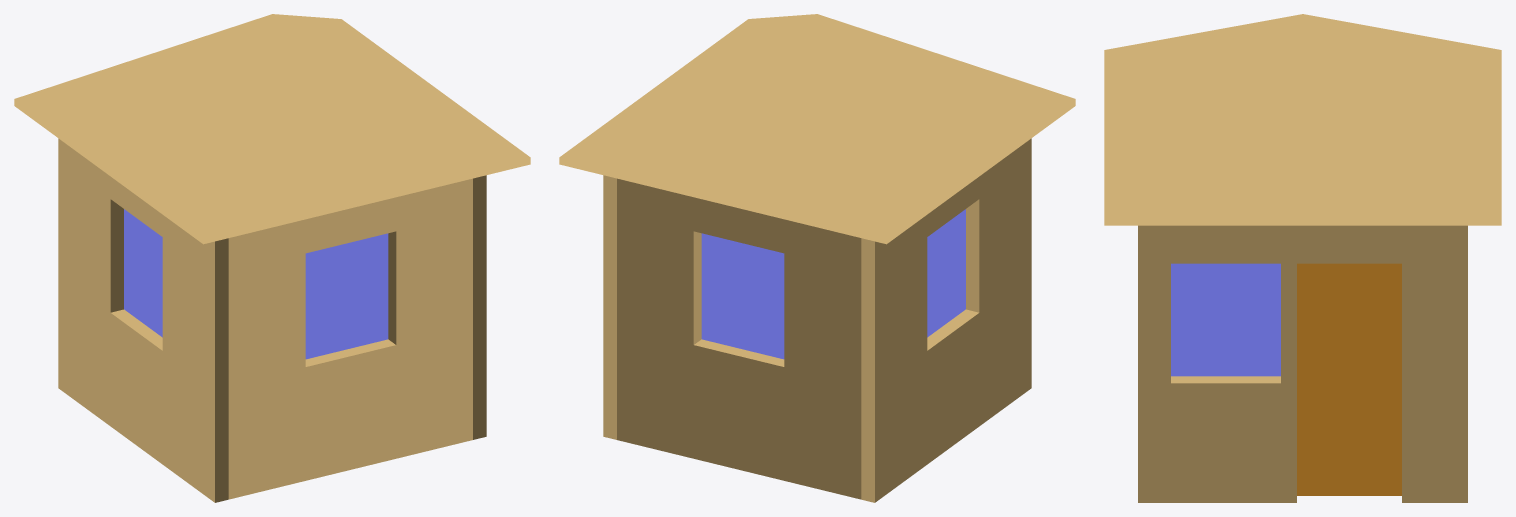
File: sample-LOD04.glb
3 views of the same model, side by side, from view 1: azimuth 30°, elevation 25°; view 2: azimuth 150°, elevation 25°; view 3: azimuth 270°, elevation 25° (orthographic). The views are drawn at different scales.
Visible parts, largest first — view 1: lod03- roof1, lod03- wall04, lod03- wall03, lod03- win04, lod03- slab02, lod03- win03, lod03- wall01; view 2: lod03- roof1, lod03- wall02, lod03- wall03, lod03- win02, lod03- slab02, lod03- win03, lod03- wall01; view 3: lod03- roof1, lod03- wall01, lod03- door01, lod03- win01, lod03- slab02.
Part boxes in pixels (bbox=[...]): lod03- roof1: bbox=[15, 14, 530, 236]; lod03- wall04: bbox=[228, 178, 472, 499]; lod03- wall03: bbox=[58, 138, 228, 502]; lod03- win04: bbox=[305, 233, 388, 359]; lod03- slab02: bbox=[14, 99, 530, 244]; lod03- win03: bbox=[124, 209, 162, 337]; lod03- wall01: bbox=[473, 175, 486, 439]; lod03- roof1: bbox=[559, 14, 1074, 236]; lod03- wall02: bbox=[617, 178, 861, 499]; lod03- wall03: bbox=[861, 138, 1031, 502]; lod03- win02: bbox=[701, 233, 784, 359]; lod03- slab02: bbox=[559, 99, 1075, 244]; lod03- win03: bbox=[927, 209, 965, 337]; lod03- wall01: bbox=[603, 175, 616, 439]; lod03- roof1: bbox=[1104, 14, 1501, 217]; lod03- wall01: bbox=[1138, 225, 1467, 502]; lod03- door01: bbox=[1297, 263, 1401, 495]; lod03- win01: bbox=[1171, 263, 1280, 376]; lod03- slab02: bbox=[1104, 218, 1501, 225].
Size of the model in its own units: 2.41 by 2.8 by 2.41.
